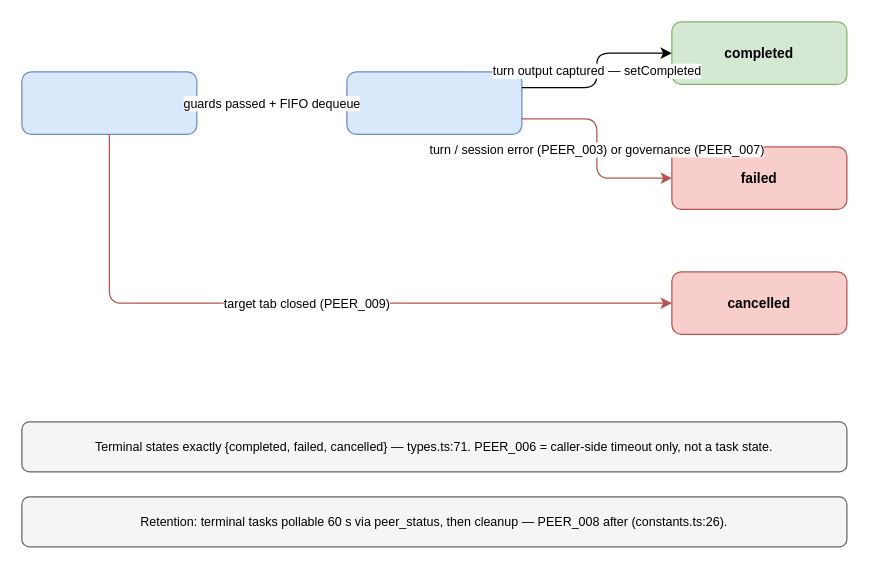
This 869x569 diagram has some shape labels left out. Here are the shapes that lost their labels. From the top down, the centre of each, then its label:
At [109,102]: "queued".
At [434,102]: "running".
